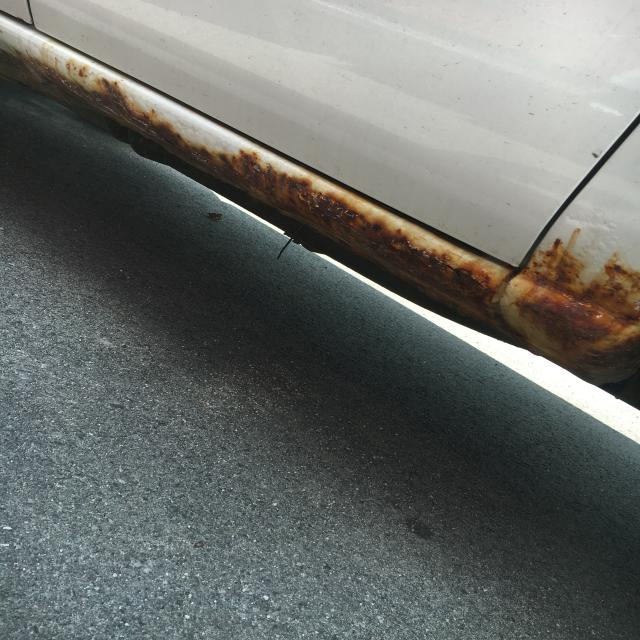corrosion: (0, 55, 640, 443)
